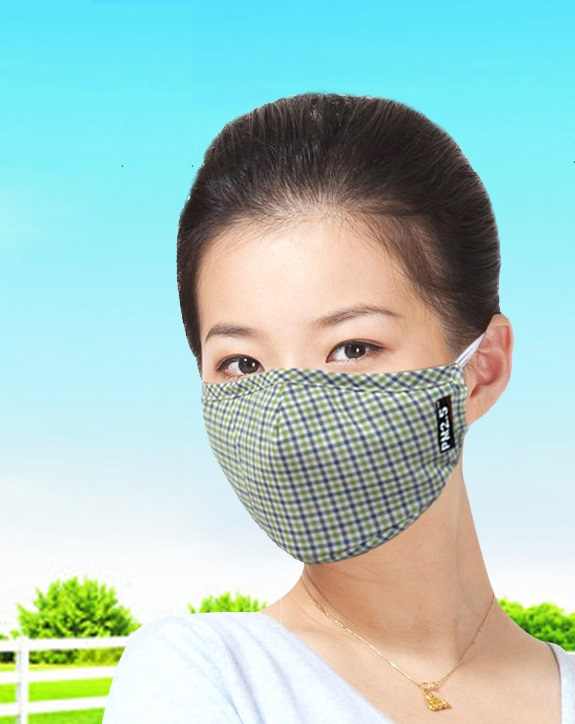face_mask: (196, 206, 444, 561)
